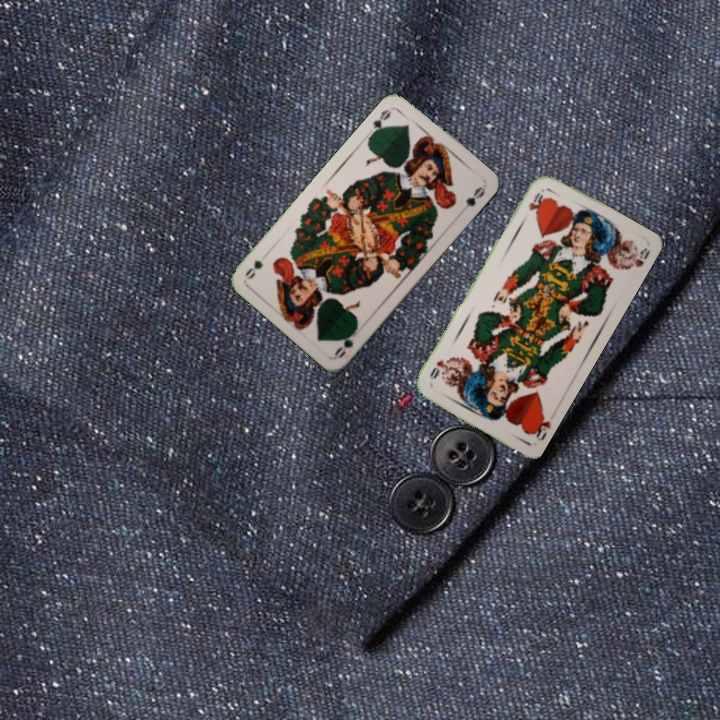GO: (331, 323, 360, 361), (367, 105, 393, 138)
HO: (526, 407, 553, 444), (524, 188, 546, 216)
